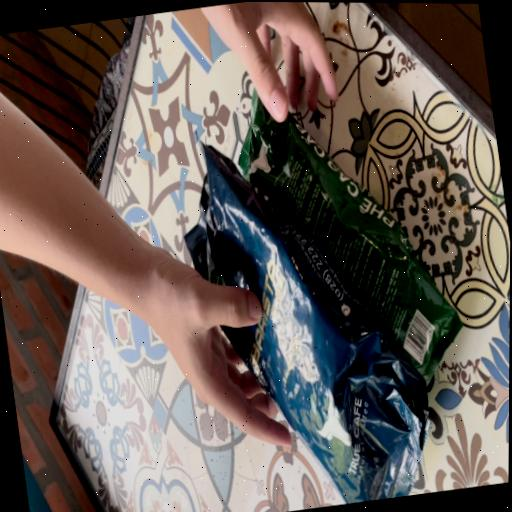cafe_hat: (184, 146, 429, 504)
cafe_xay: (239, 92, 462, 381)
